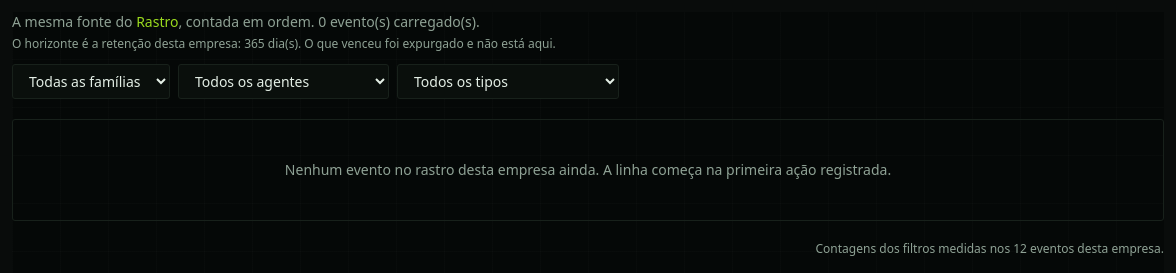
Test: A9: pagina por cursor e filtra sem misturar recortes › lista vazia com filtro explica que o recorte é exato
The image size is (1176, 273).
Expected: the text "A linha começa na primeira ação" is shown, top-left (285, 160), bottom-right (891, 179)
Select "Ferramentas (12)" in the dropdown named "Família de evento" at (91, 82), box top-left (12, 64), bottom-right (170, 99)
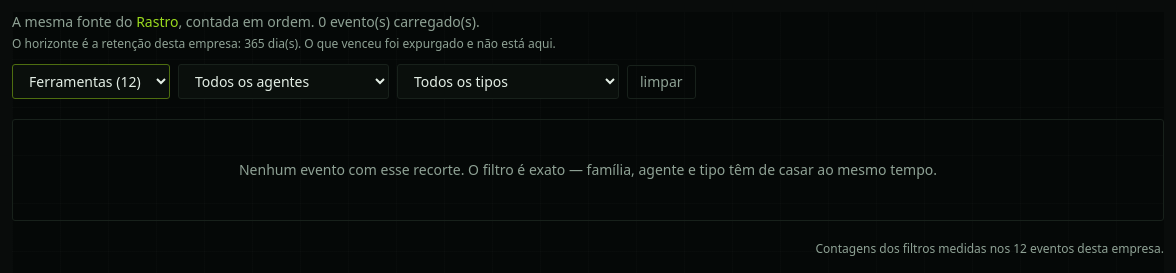
Now the text "O filtro é exato" is shown, box top-left (239, 160), bottom-right (937, 179)
